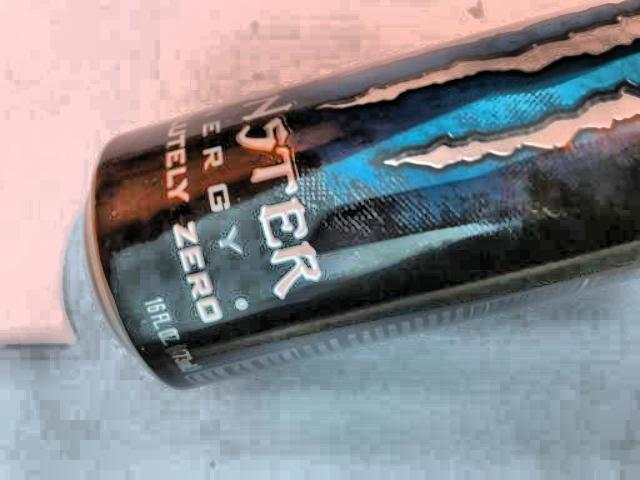Bottles: (75, 4, 640, 396)
